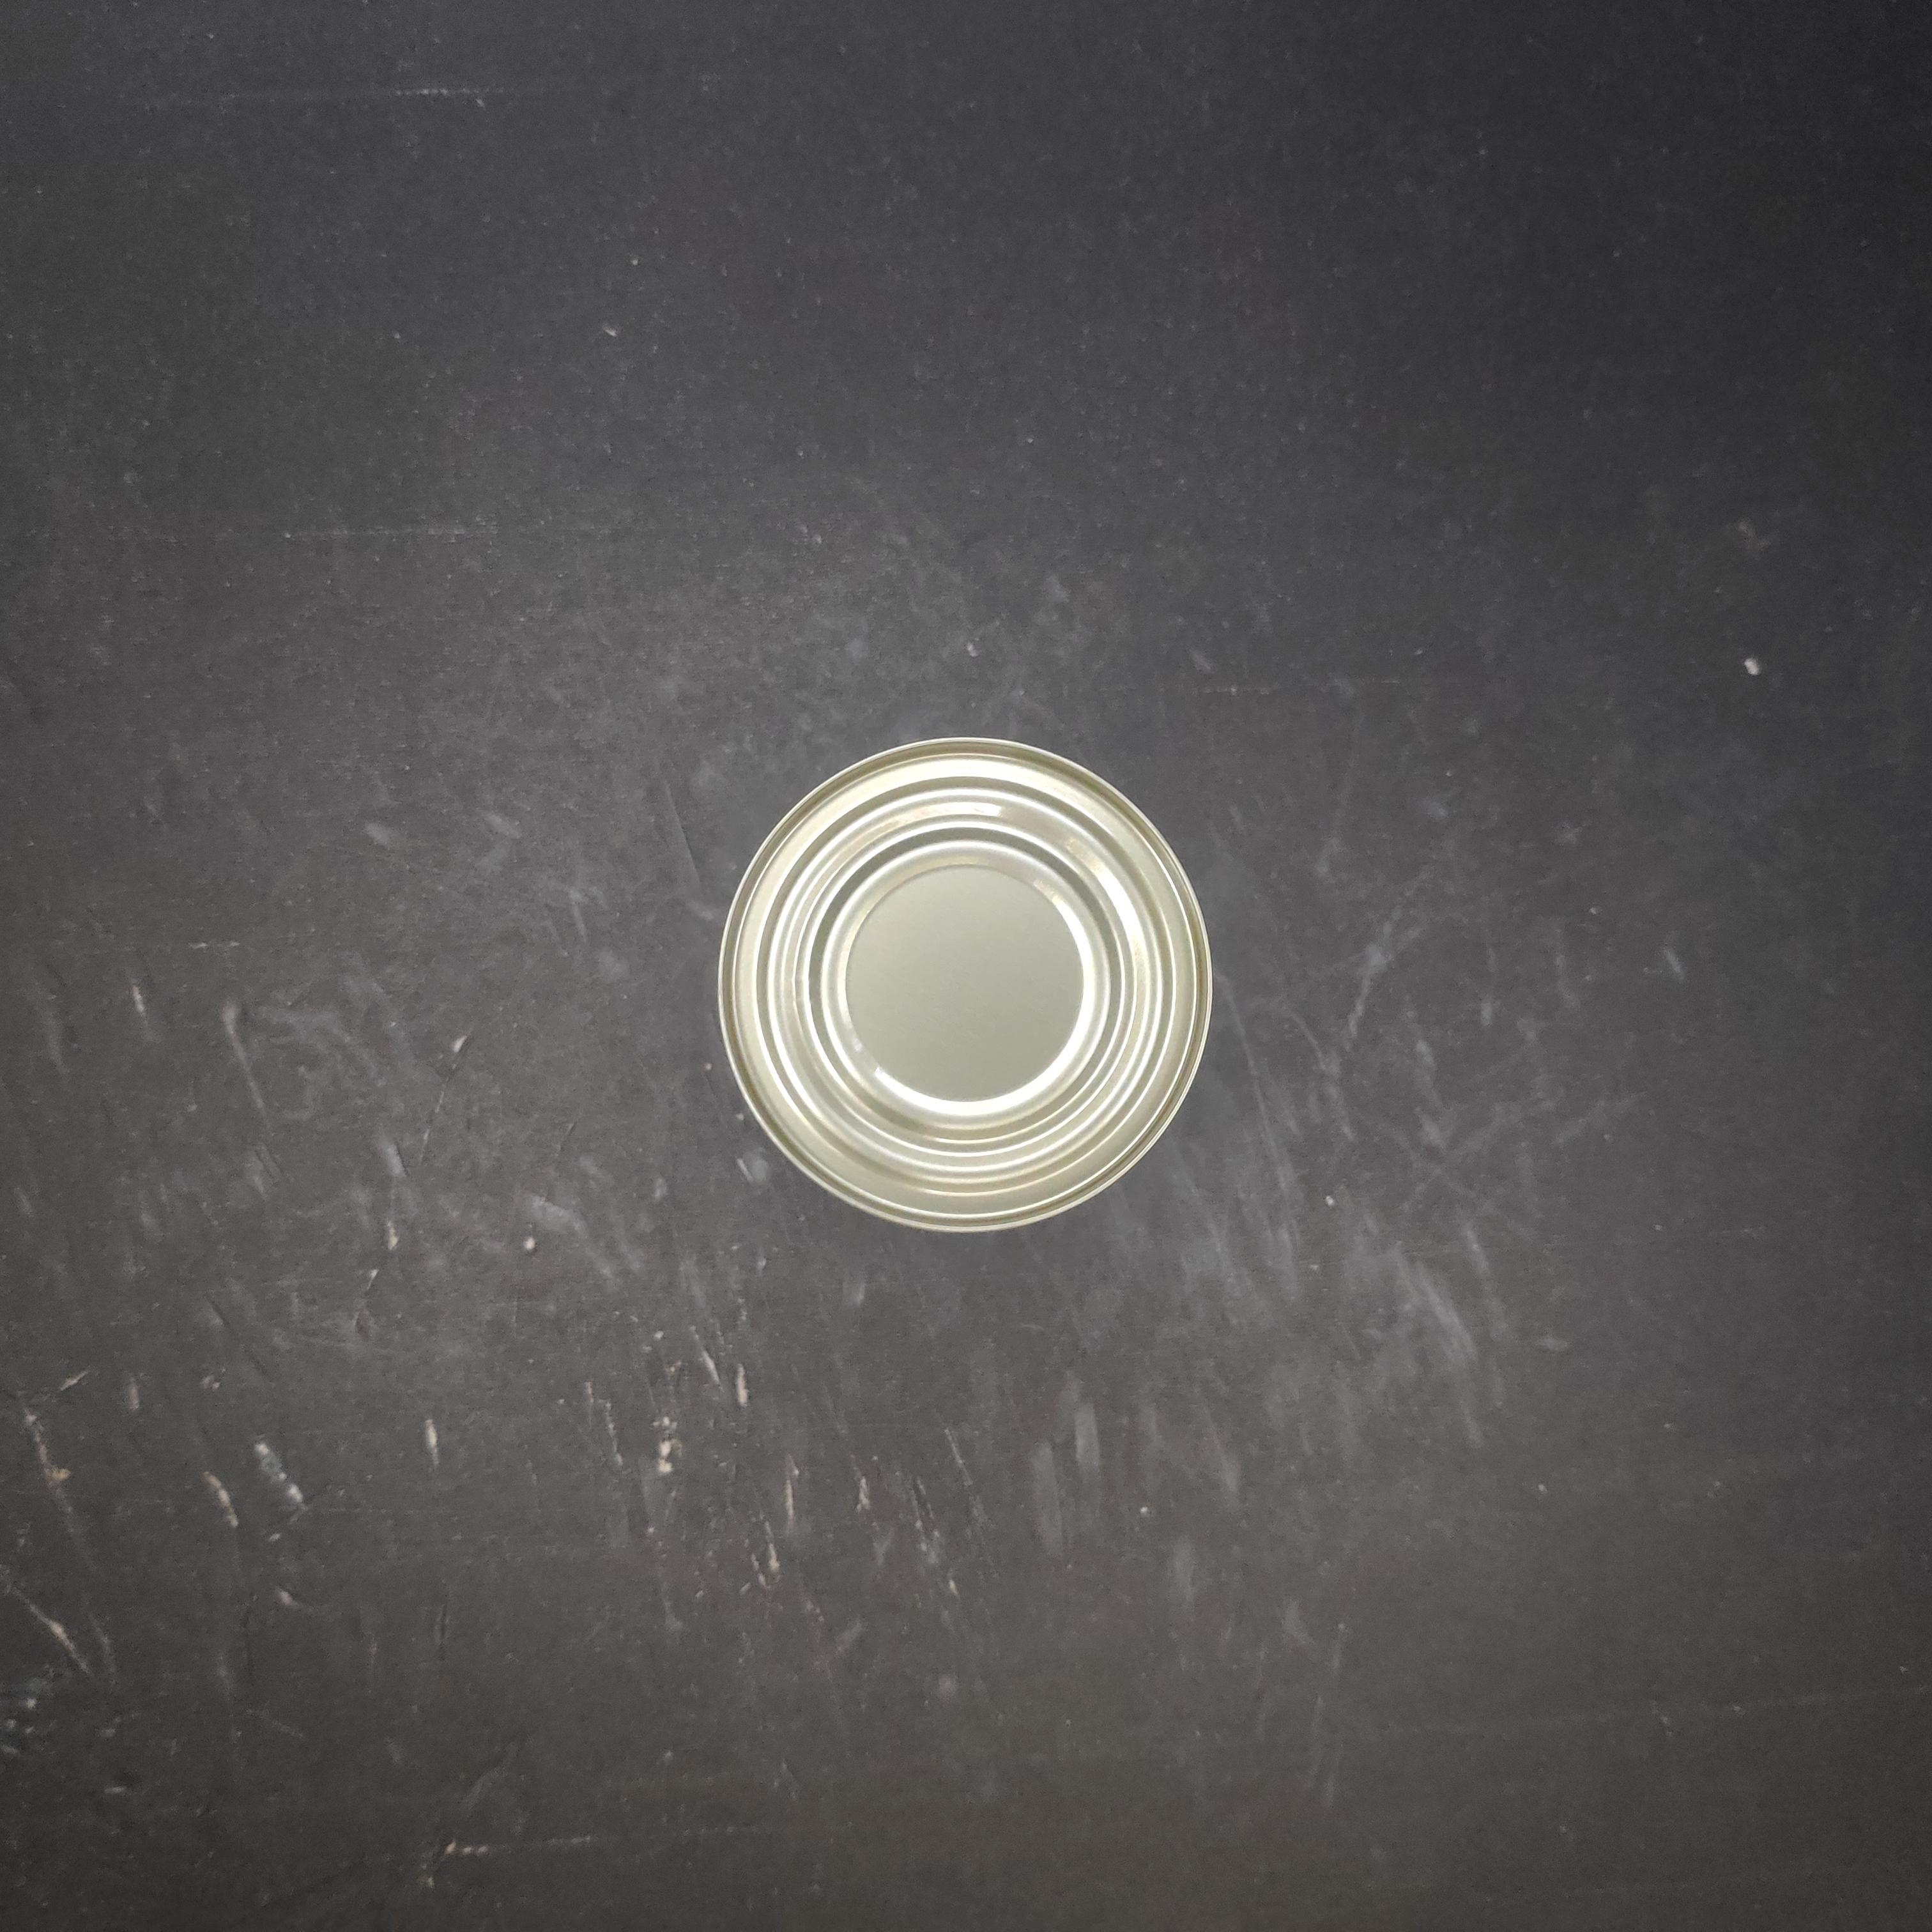No defect: (734, 717, 1235, 1217)
